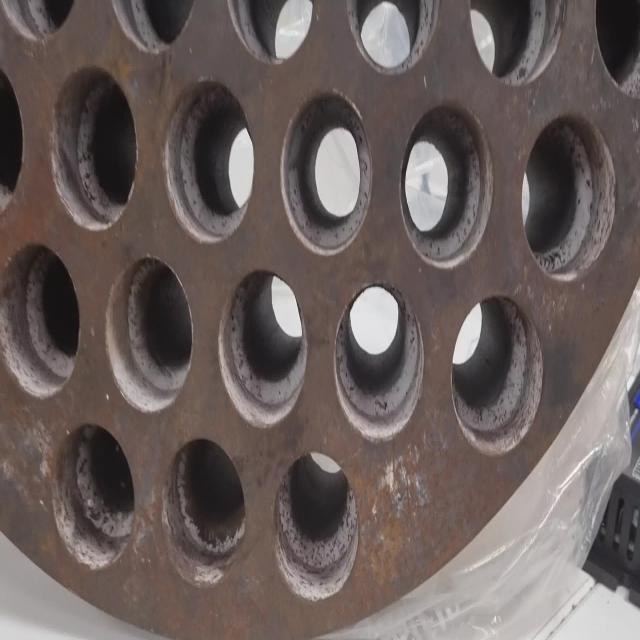Hole: (521, 112, 617, 282), (280, 89, 374, 257), (400, 101, 494, 269), (163, 78, 255, 244), (451, 294, 544, 456), (49, 64, 137, 231), (218, 267, 308, 429), (334, 283, 424, 442), (104, 255, 192, 413), (274, 450, 359, 604), (161, 436, 246, 588), (52, 421, 136, 571), (1, 240, 80, 398), (468, 0, 566, 84), (346, 1, 440, 75), (226, 0, 317, 66)
